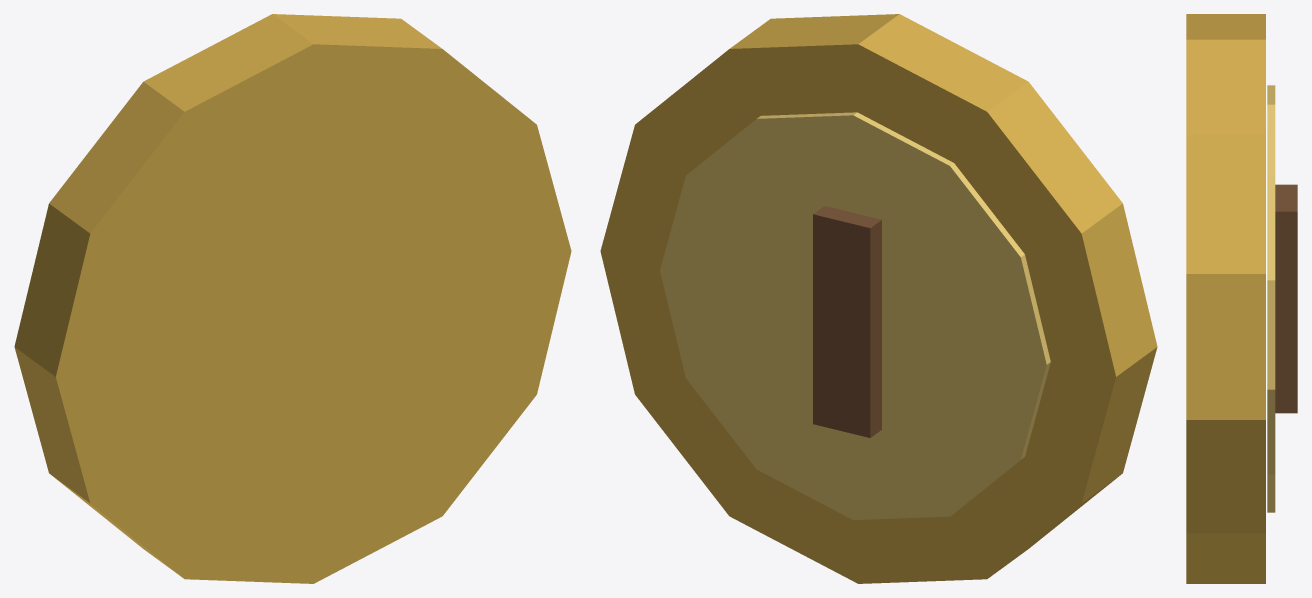
The model's file is currency_coin.glb.
The picture shows the model from 3 angles, left to right: view 1: azimuth 30°, elevation 25°; view 2: azimuth 150°, elevation 25°; view 3: azimuth 270°, elevation 25°; orthographic projection. The views are drawn at different scales.
Parts seen in each view (by area): view 1: currency_coin; view 2: currency_coin; view 3: currency_coin.
Part boxes in pixels (bbox=[...]): currency_coin: bbox=[14, 14, 571, 583]; currency_coin: bbox=[600, 14, 1157, 583]; currency_coin: bbox=[1186, 14, 1297, 583].
Bounding box in the file's own units: 0.36 × 0.36 × 0.07.
